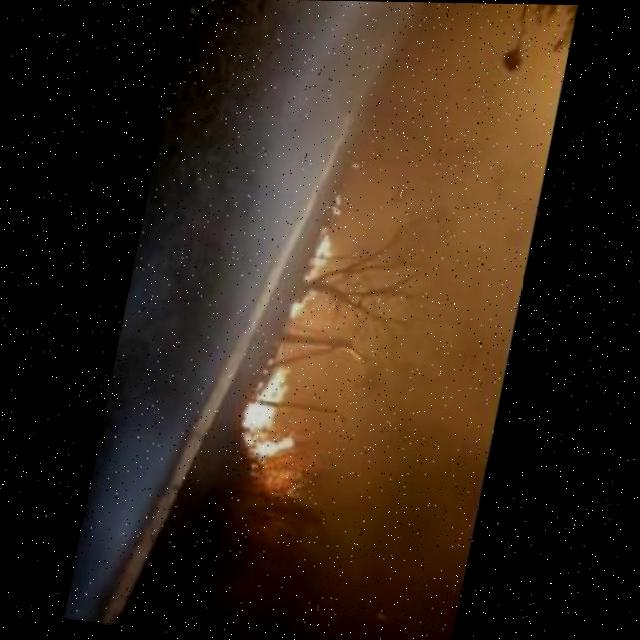fire: (236, 353, 312, 464), (304, 227, 336, 286), (292, 289, 320, 323)
